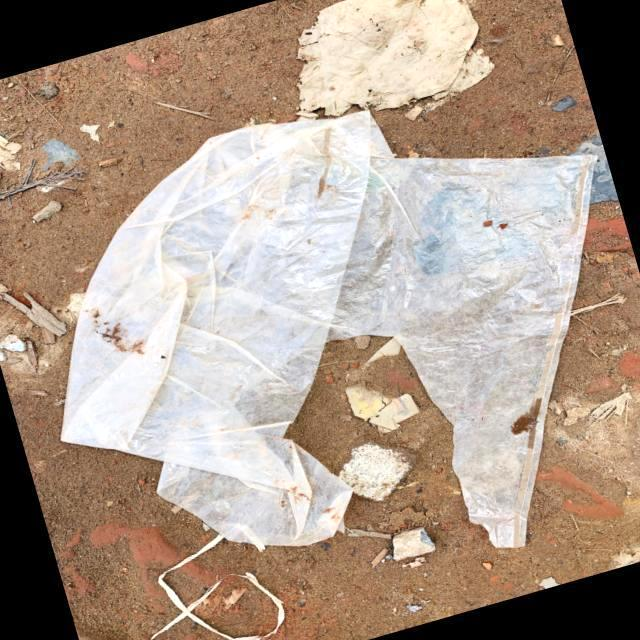polythene: (106, 158, 548, 494)
